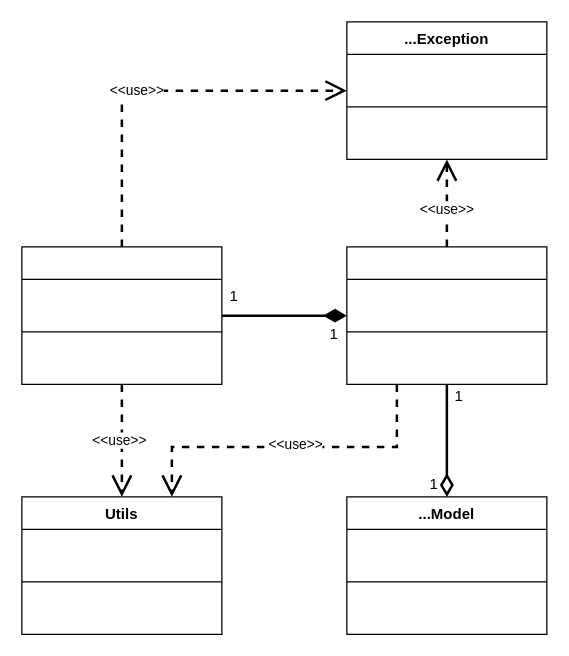
This 569x656 diagram has some shape labels left out. The shapes that lost their labels are listed below. From the top down, each one's centre as x and y in pixels, then its label:
At (121,315): "...View".
At (446,315): "Controller".
